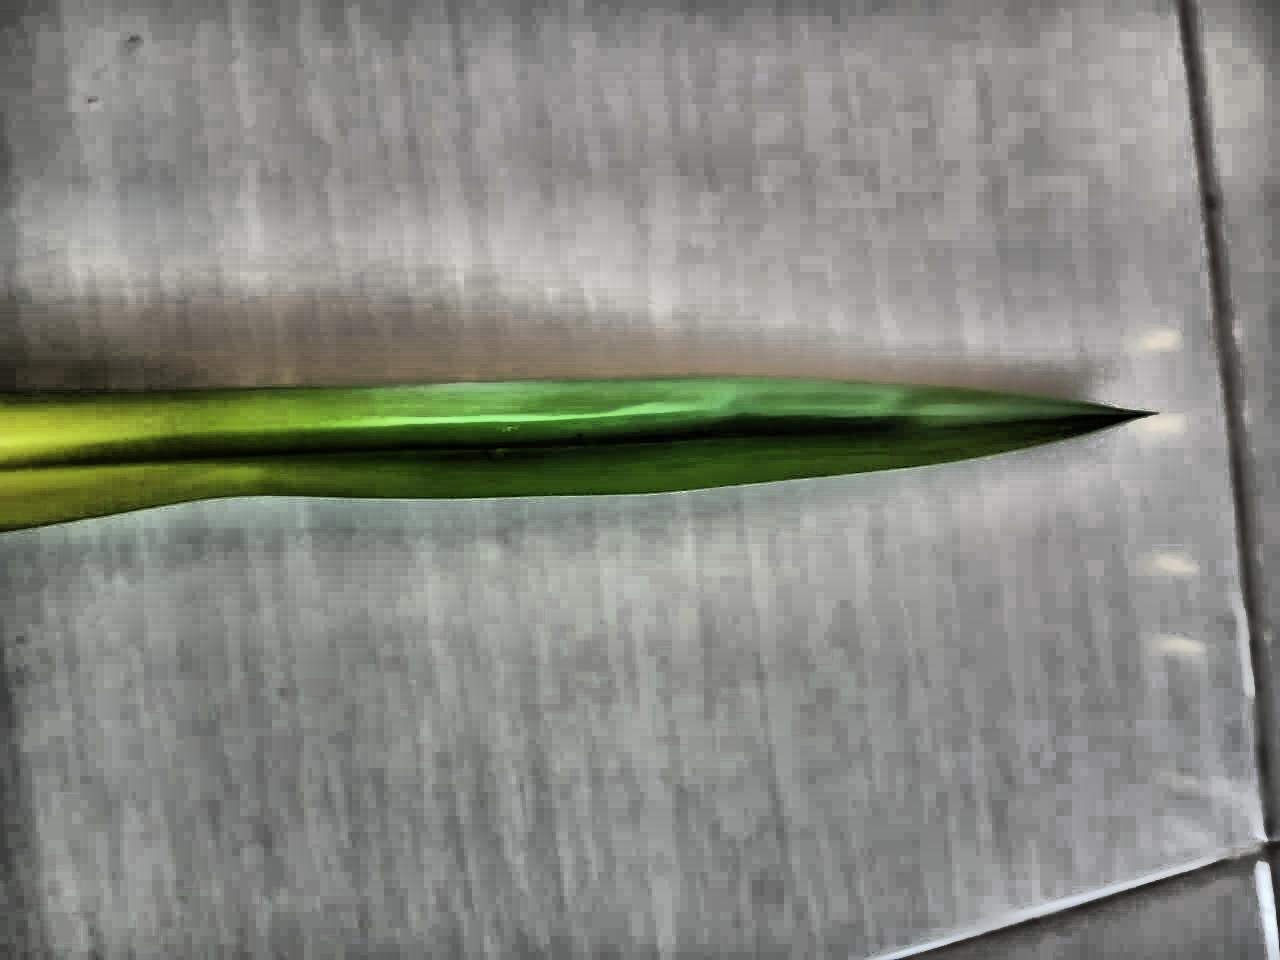daun pandan: (0, 377, 1144, 531)
